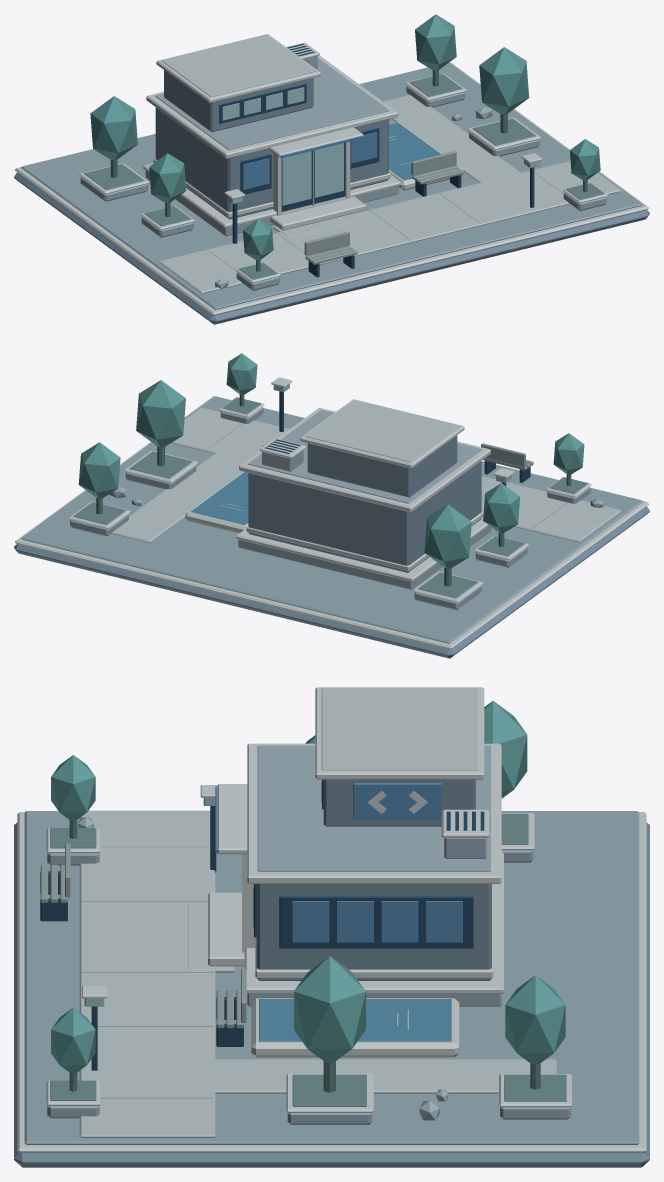
Rendered from campus_home_study_v01.glb.
3 renders of one model, top to bottom at view 1: azimuth 30°, elevation 25°; view 2: azimuth 150°, elevation 25°; view 3: azimuth 270°, elevation 25°, orthographic. The views are drawn at different scales.
Parts seen in each view (by area): view 1: Terrain, Lab, Garden; view 2: Terrain, Lab, Garden; view 3: Terrain, Lab, Garden.
Boxes of the visible parts, <box> form: Terrain: <box>14,62,649,324</box>; Lab: <box>143,34,401,236</box>; Garden: <box>79,14,607,290</box>; Terrain: <box>14,396,649,658</box>; Lab: <box>236,399,491,589</box>; Garden: <box>68,353,604,609</box>; Terrain: <box>14,810,649,1167</box>; Lab: <box>208,687,503,1006</box>; Garden: <box>40,701,571,1124</box>.
Bounding box in the file's own units: 19 × 5.65 × 15.
